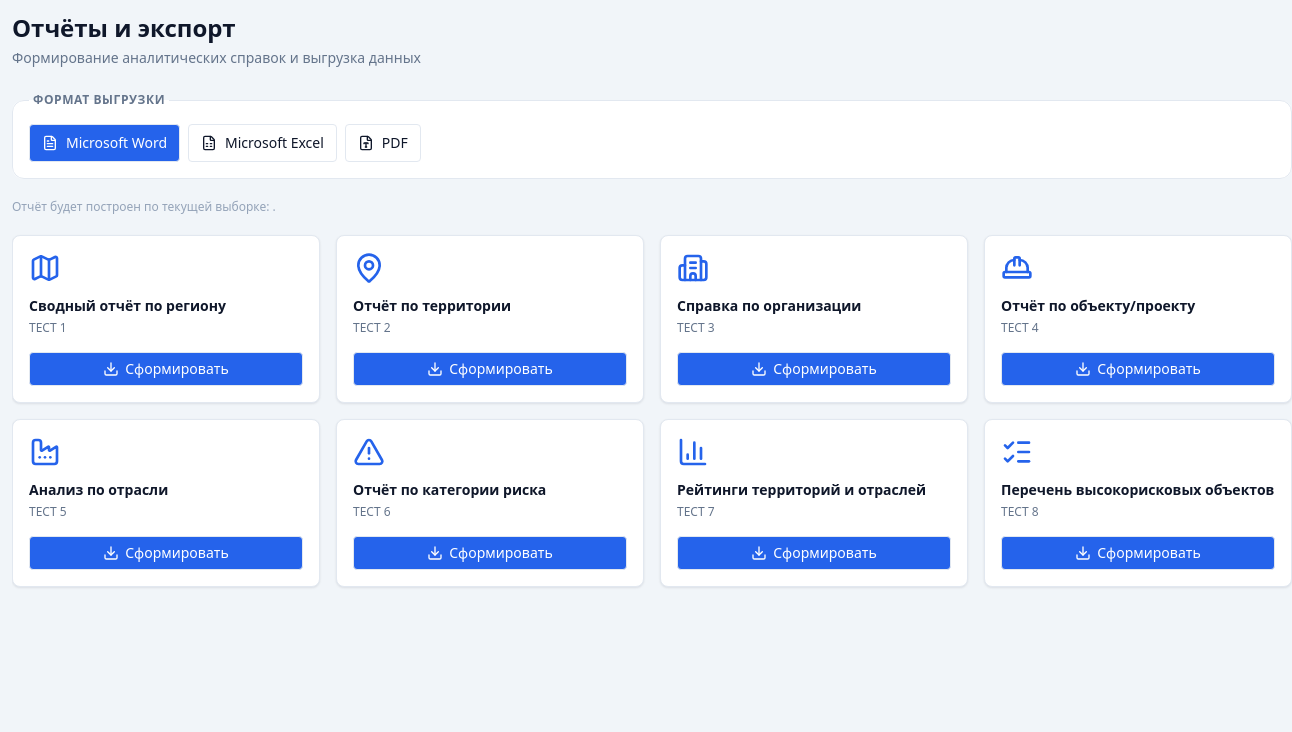
Экран «Отчёты и экспорт» › без заголовка с именем сохраняет файл под названием шаблона, а не под кодом
This screenshot has width=1292, height=732.
Expected: the heading "Рейтинги территорий и отраслей" is shown, [677,480,951,500]
Step 1. Click the button "Сформировать" below "ТЕСТ 7" → (814, 553), box [677,536,951,570]
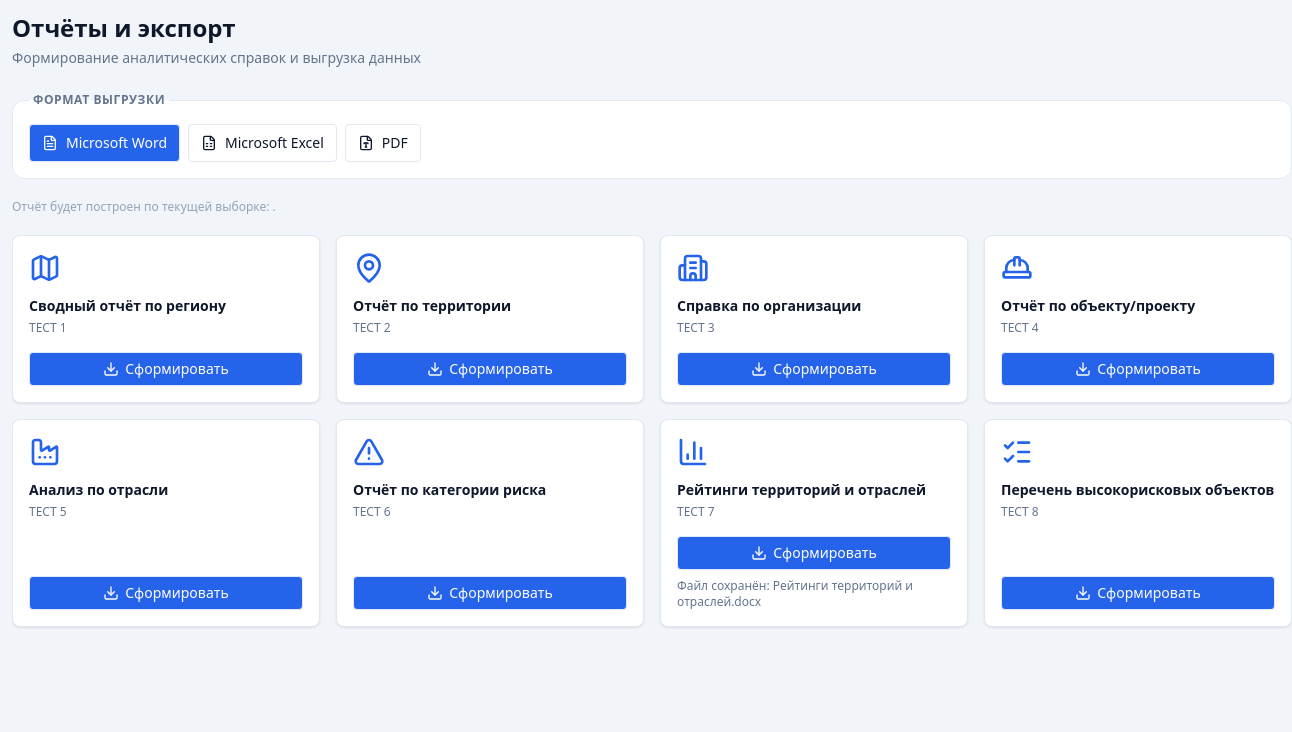
Result: the text "Файл сохранён: Рейтинги территорий и отраслей.docx" is shown at [677,578,951,610]
